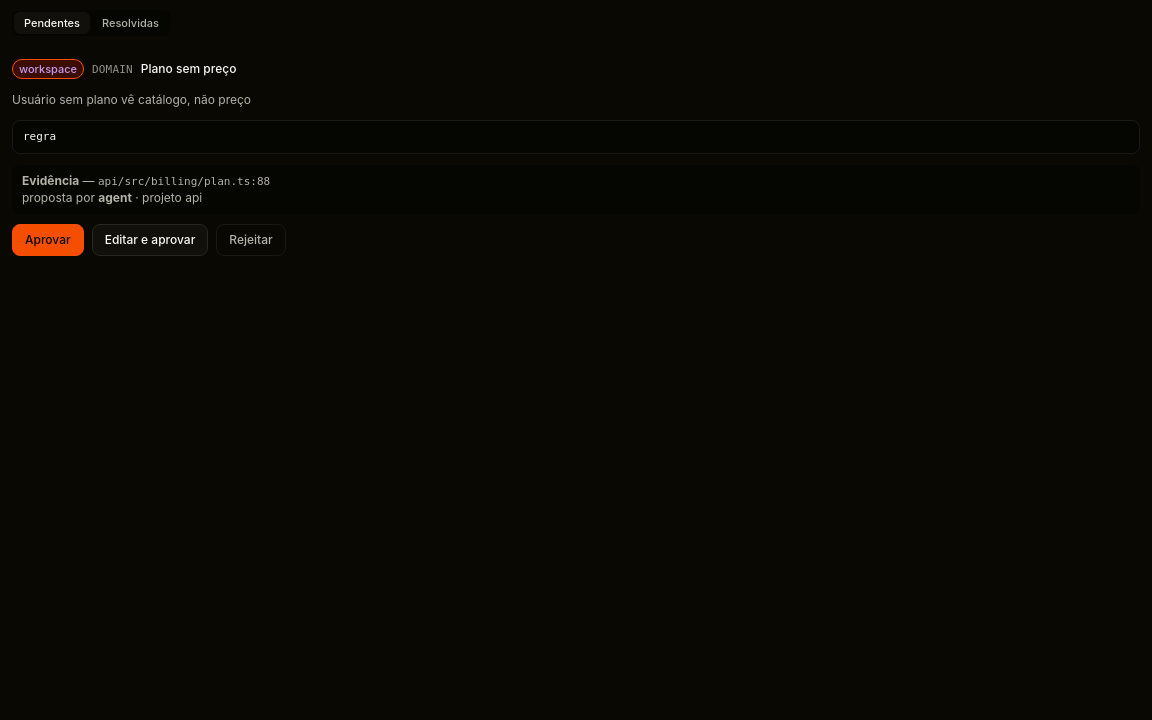
it: MemoryPanel › não deixa aprovar edição que apagou nome ou descrição
Click the button "Editar e aprovar" at (150, 240), box [92,224,208,256]
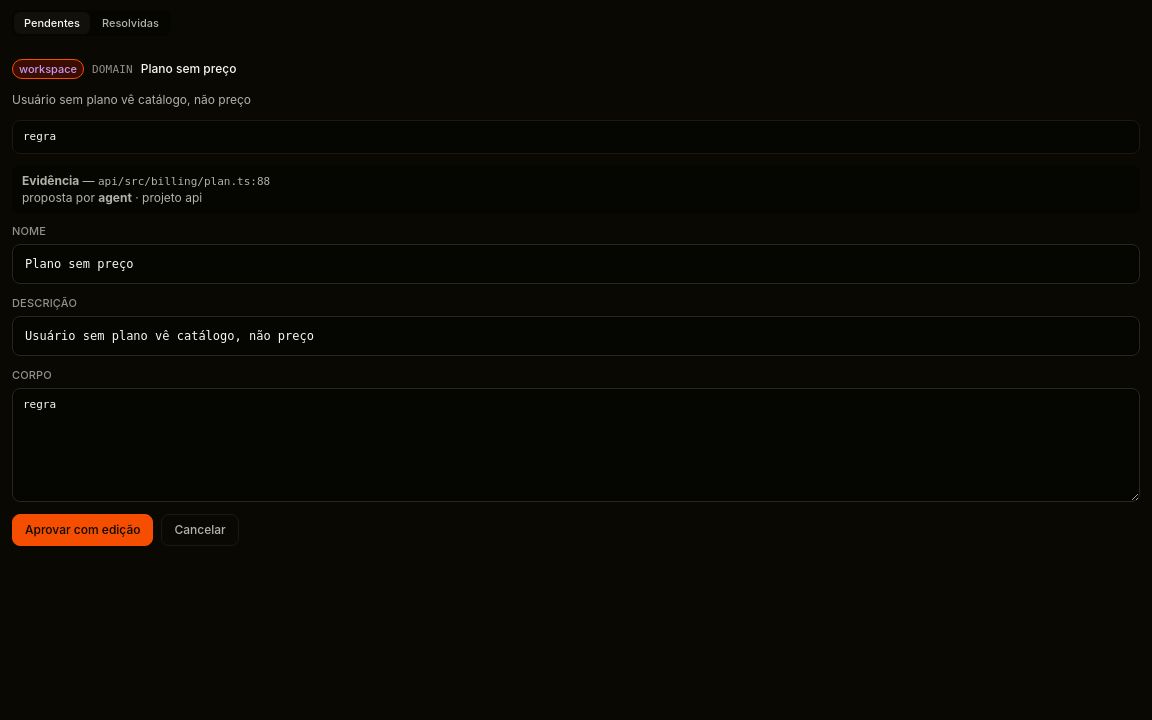
Clear the field labelled "Nome" at (576, 264), box [12,244,1140,284]
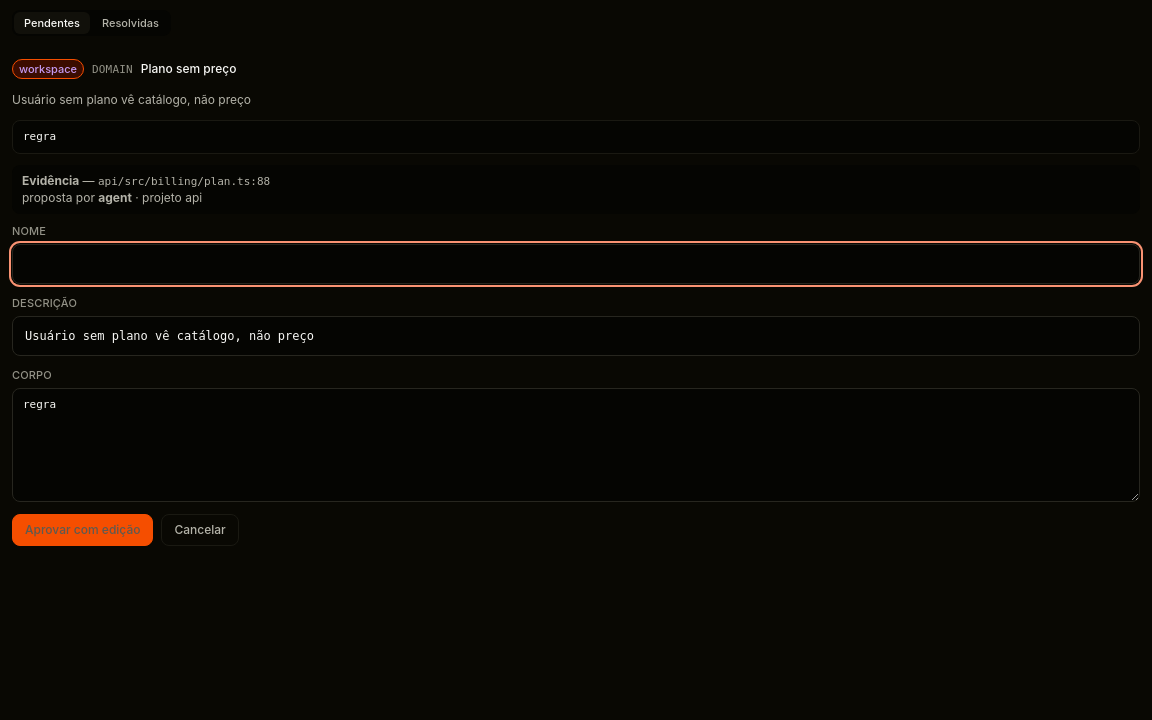
Now the button "Aprovar com edição" is disabled, box [12,514,154,546]
